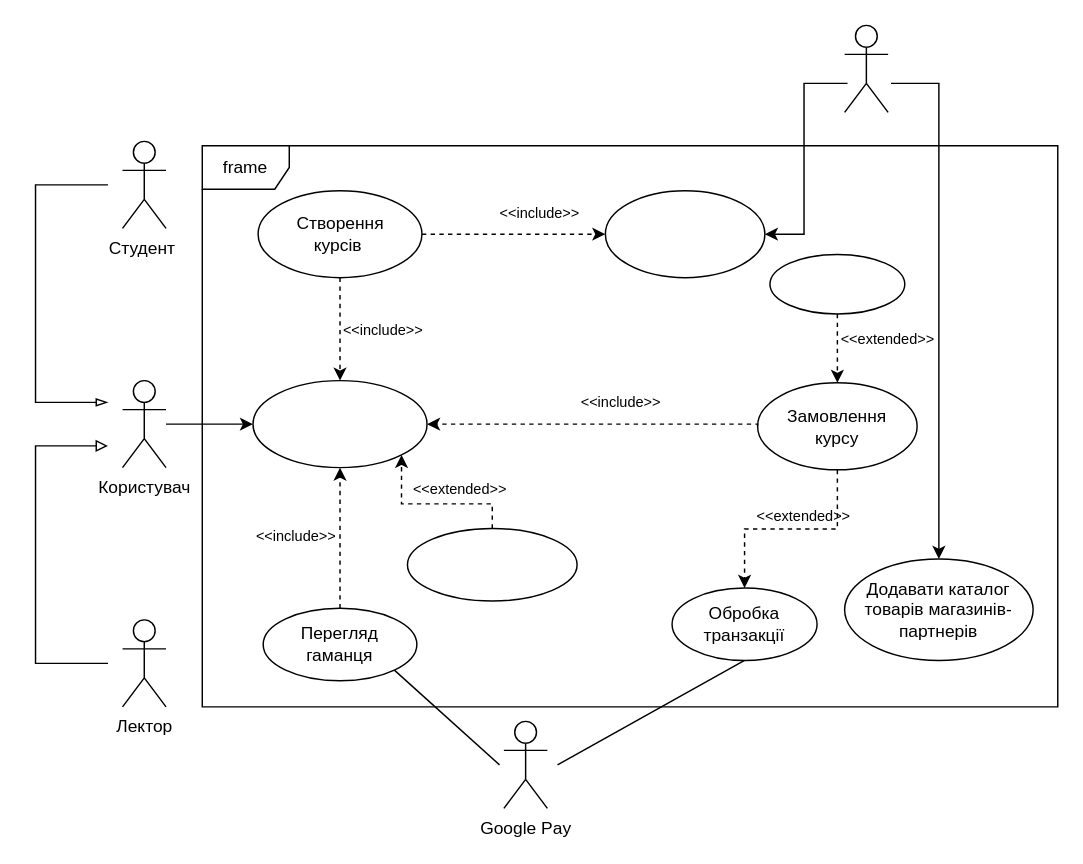
Some shapes in this 1083 by 864 pixel diagram are drawn without their labels. Each missing label, with the centre of its shape:
"Авторизація користувача" goes at (339,423).
"Адміністратор" goes at (865,68).
"Залишити відгук" goes at (836,283).
"Перевірка курсів" goes at (684,233).
"Пошук потрібних курсів" goes at (491,564).
